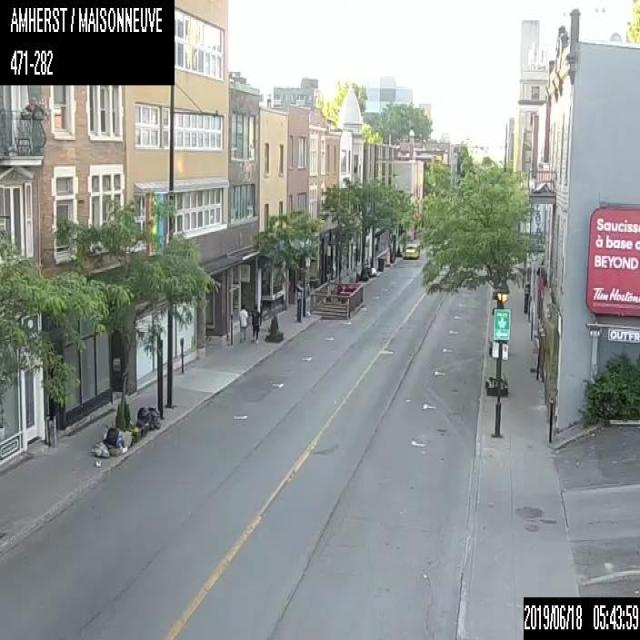construction: (384, 250, 390, 266)
pedestrian: (238, 303, 248, 341), (250, 303, 259, 341)
vehicle: (404, 241, 419, 259)
